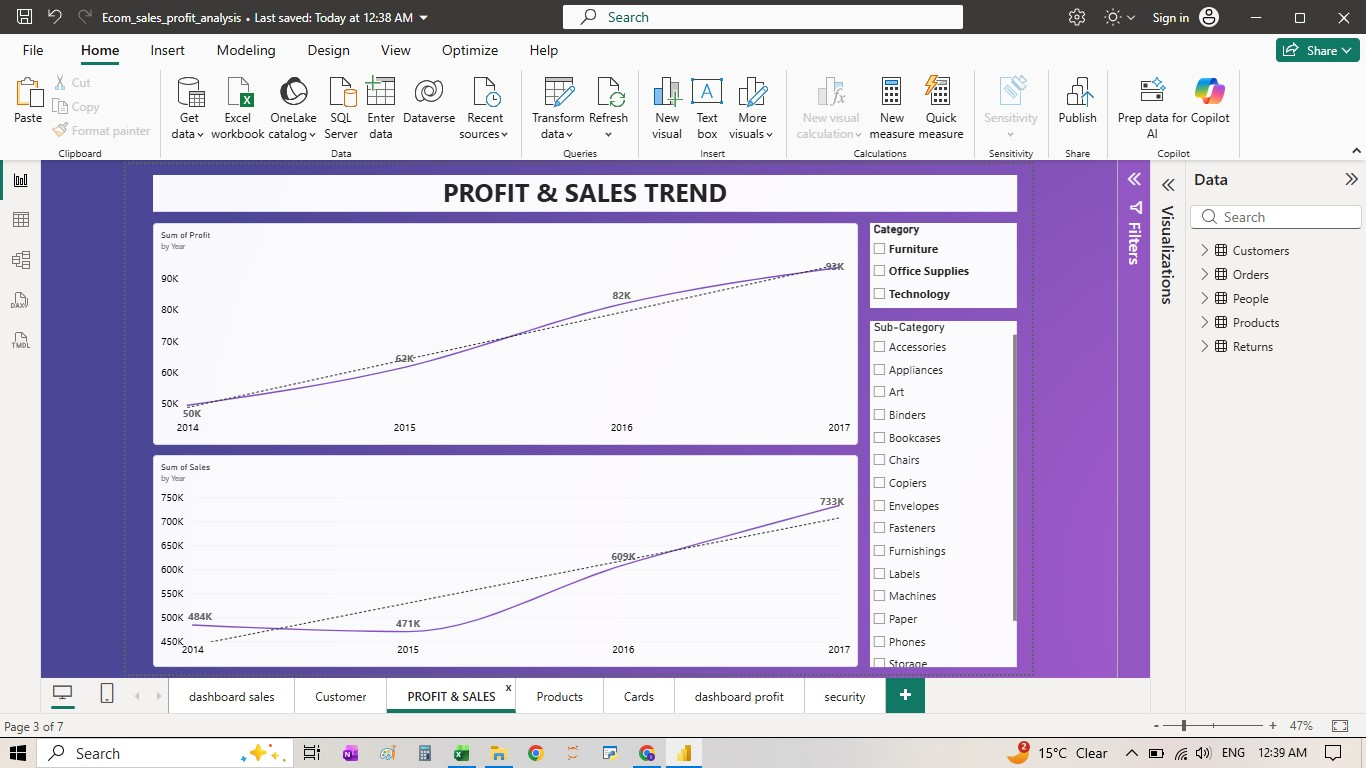

The dashboard page shown, as its layout file describes it:
{"tool":"powerbi","page":{"name":"PROFIT &  SALES","canvas":[1920,1080],"ordinal":2},"visuals":[{"type":"textbox","box":[57.2,23.3,1829.6,78.4],"z":0},{"type":"lineChart","fields":{"Category":["Orders.Order Date.Variation.Date Hierarchy.Year"],"Y":["Sum(Orders.Profit)"]},"box":[57.2,124.9,1492.9,470.1],"z":1000},{"type":"lineChart","fields":{"Category":["Orders.Order Date.Variation.Date Hierarchy.Year"],"Y":["Sum(Orders.Sales)"]},"box":[57.2,616.2,1492.9,448.9],"z":2000},{"type":"slicer","fields":{"Values":["Products.Category"]},"box":[1575.5,124.9,311.3,180],"z":3000},{"type":"slicer","fields":{"Values":["Products.Sub-Category"]},"box":[1575.5,332.5,311.3,732.7],"z":4000}]}

Visuals, with their boxes on the page's 1920x1080 design canvas (x1, y1, x2, y2). These are canvas units, not pixel positions in the 1366x768 screenshot, which may show the page scaled, cropped or inside an application window:
textbox: (57,23,1887,102)
lineChart - Orders.Order Date.Variation.Date Hierarchy.Year x Sum(Orders.Profit): (57,125,1550,595)
lineChart - Orders.Order Date.Variation.Date Hierarchy.Year x Sum(Orders.Sales): (57,616,1550,1065)
slicer - Products.Category: (1576,125,1887,305)
slicer - Products.Sub-Category: (1576,332,1887,1065)
